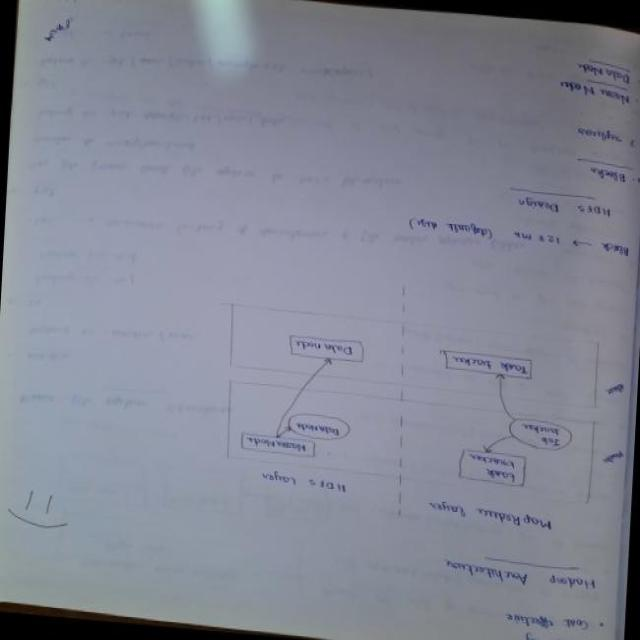Figure Detection - v3 Dataset Version2: (200, 302, 608, 524)
